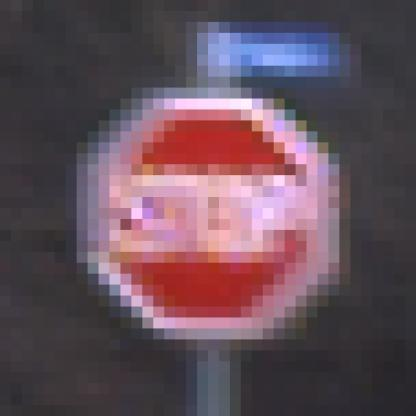Stop: (100, 105, 330, 330)
